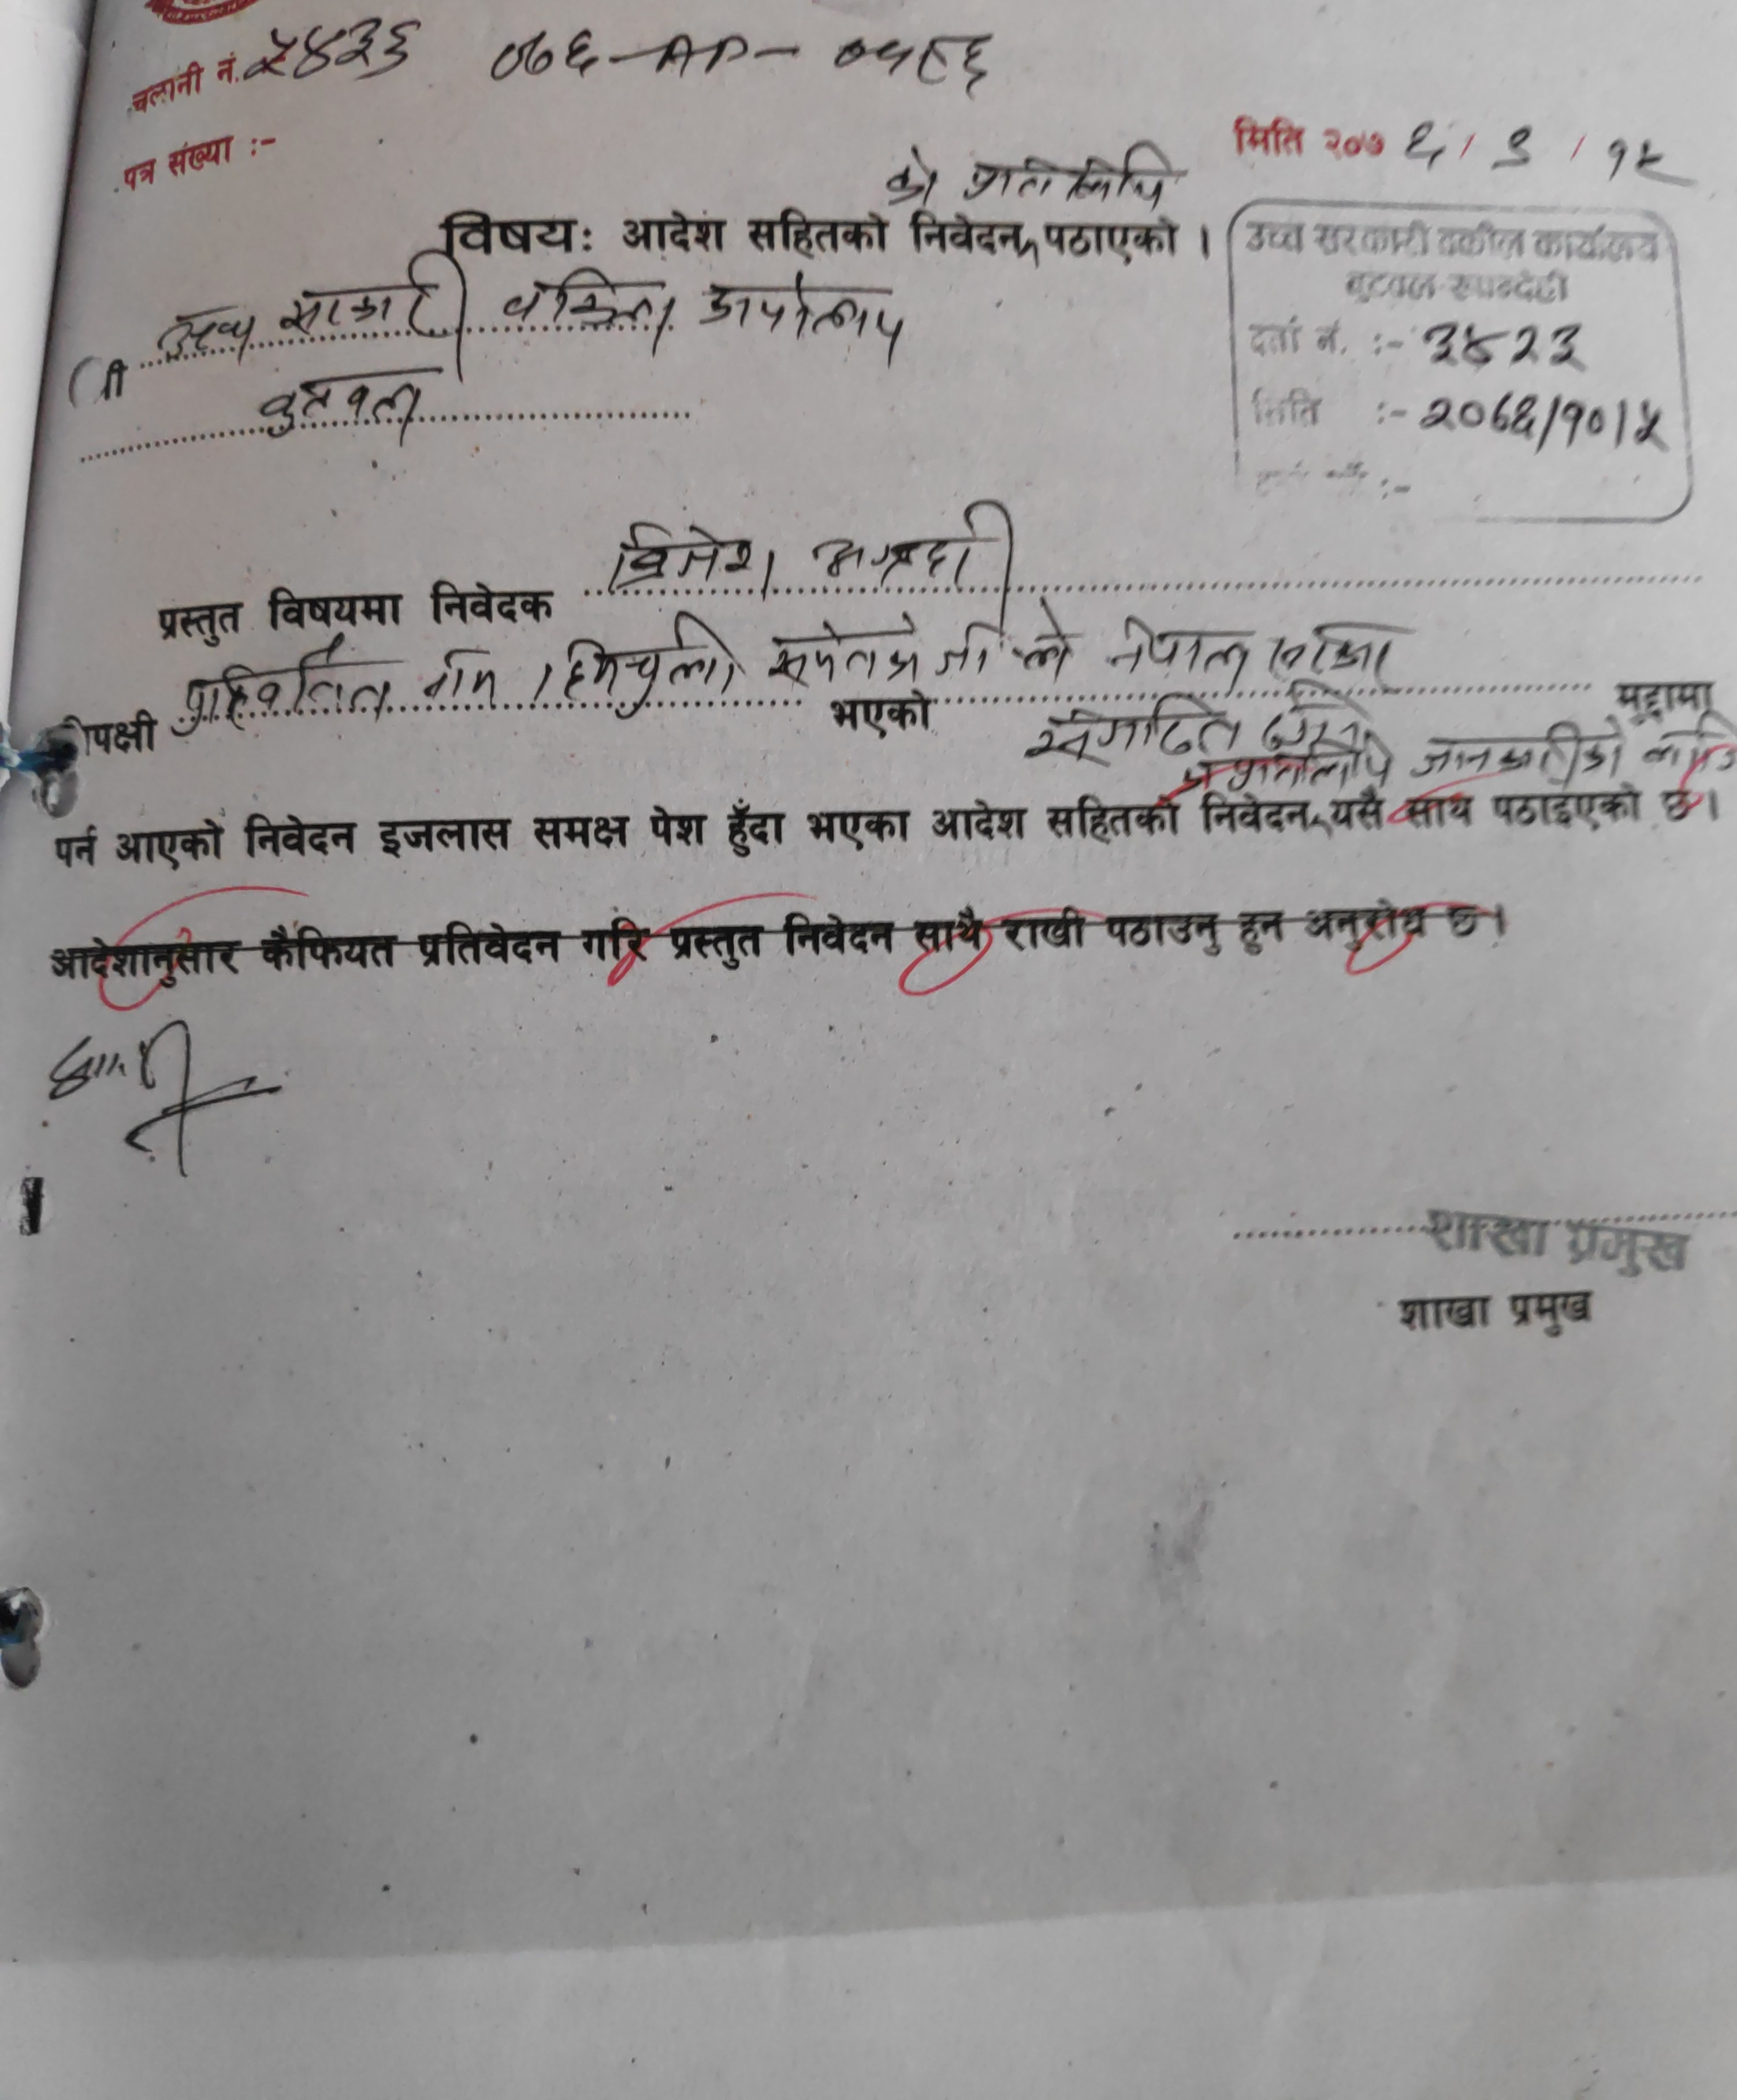text: (699, 267, 912, 377), (276, 244, 476, 358), (171, 638, 399, 736), (544, 609, 746, 713), (1416, 387, 1671, 469), (813, 499, 1024, 597), (959, 134, 1182, 216), (1404, 712, 1625, 790), (492, 260, 678, 351), (1024, 691, 1236, 766), (607, 513, 781, 603), (253, 368, 426, 452), (235, 14, 426, 89), (1099, 605, 1254, 692), (764, 616, 926, 694), (1261, 619, 1432, 689), (937, 603, 1078, 684), (1421, 319, 1591, 373), (487, 21, 603, 89), (153, 302, 256, 363), (422, 645, 507, 712), (1596, 136, 1685, 192), (877, 140, 943, 208), (1491, 124, 1549, 183), (1400, 119, 1447, 174)
